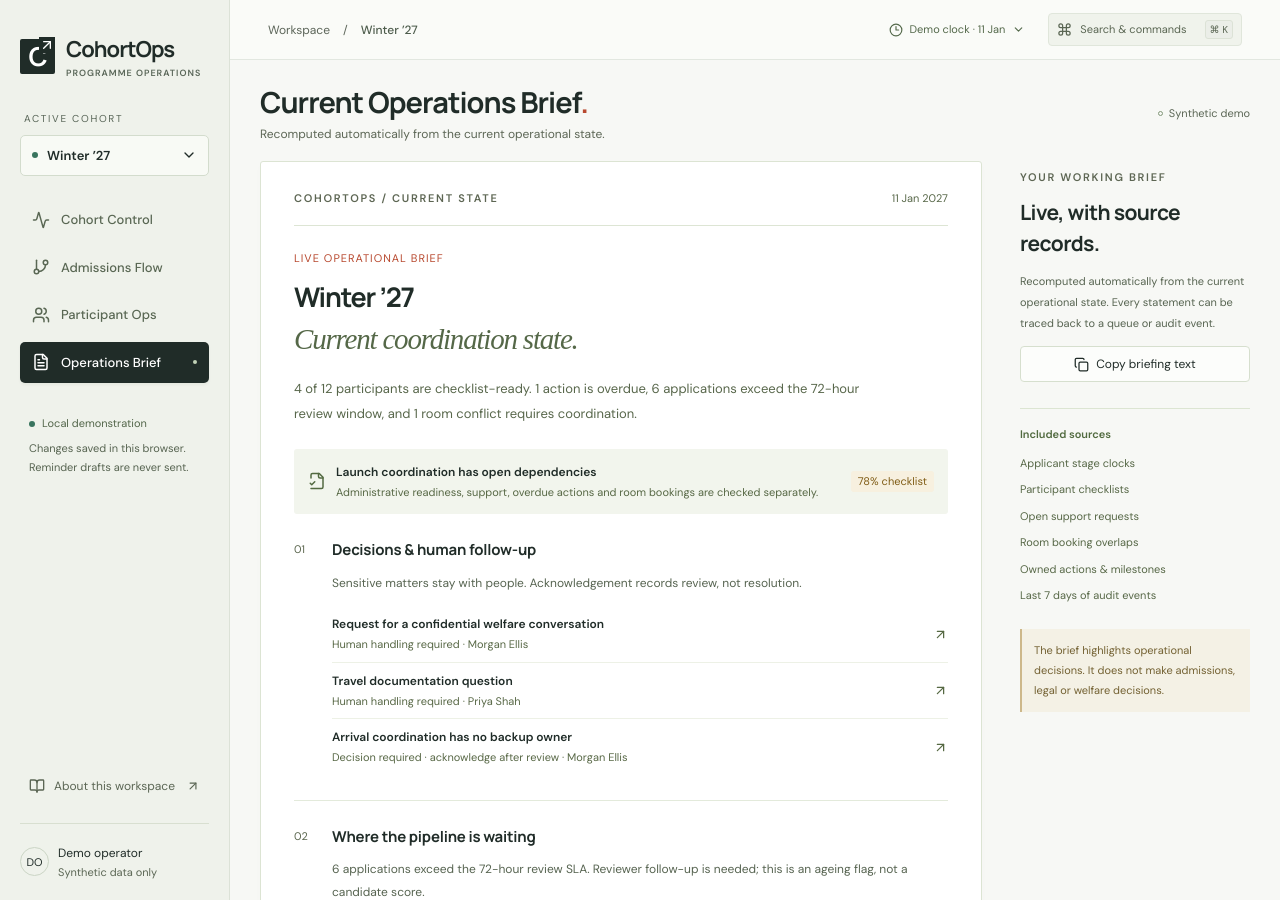
Scenario: CohortOps interaction refinements › removes generation controls and recomputes the explicitly live brief
This screenshot has width=1280, height=900.
Expected: the heading "Current Operations Brief." is shown, [260,84,605,120]
Expected: the button "Copy briefing text" is shown, [1020,346,1250,382]
Press k
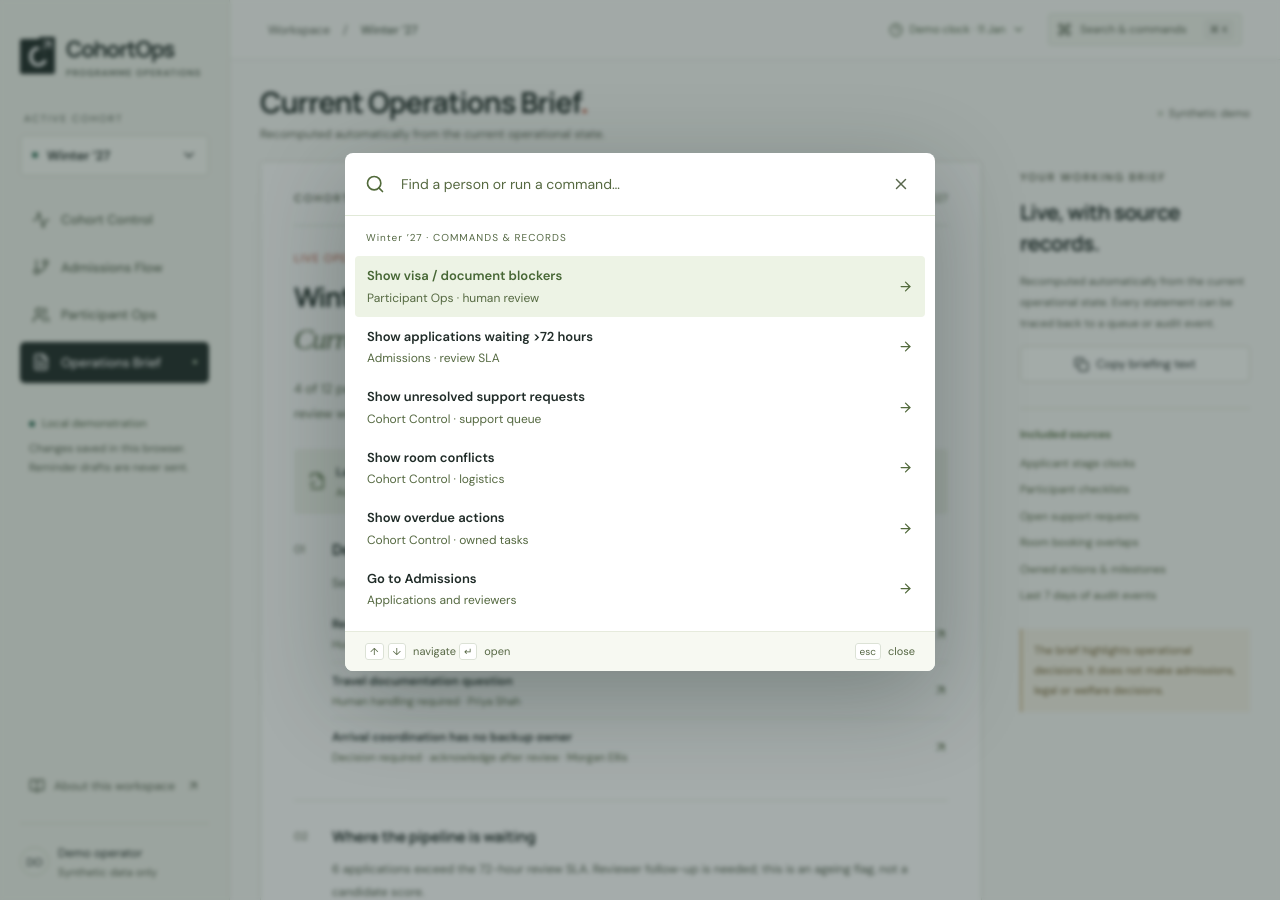
Type "current operations brief" into the dropdown at (636, 184), box [399,172,873,196]
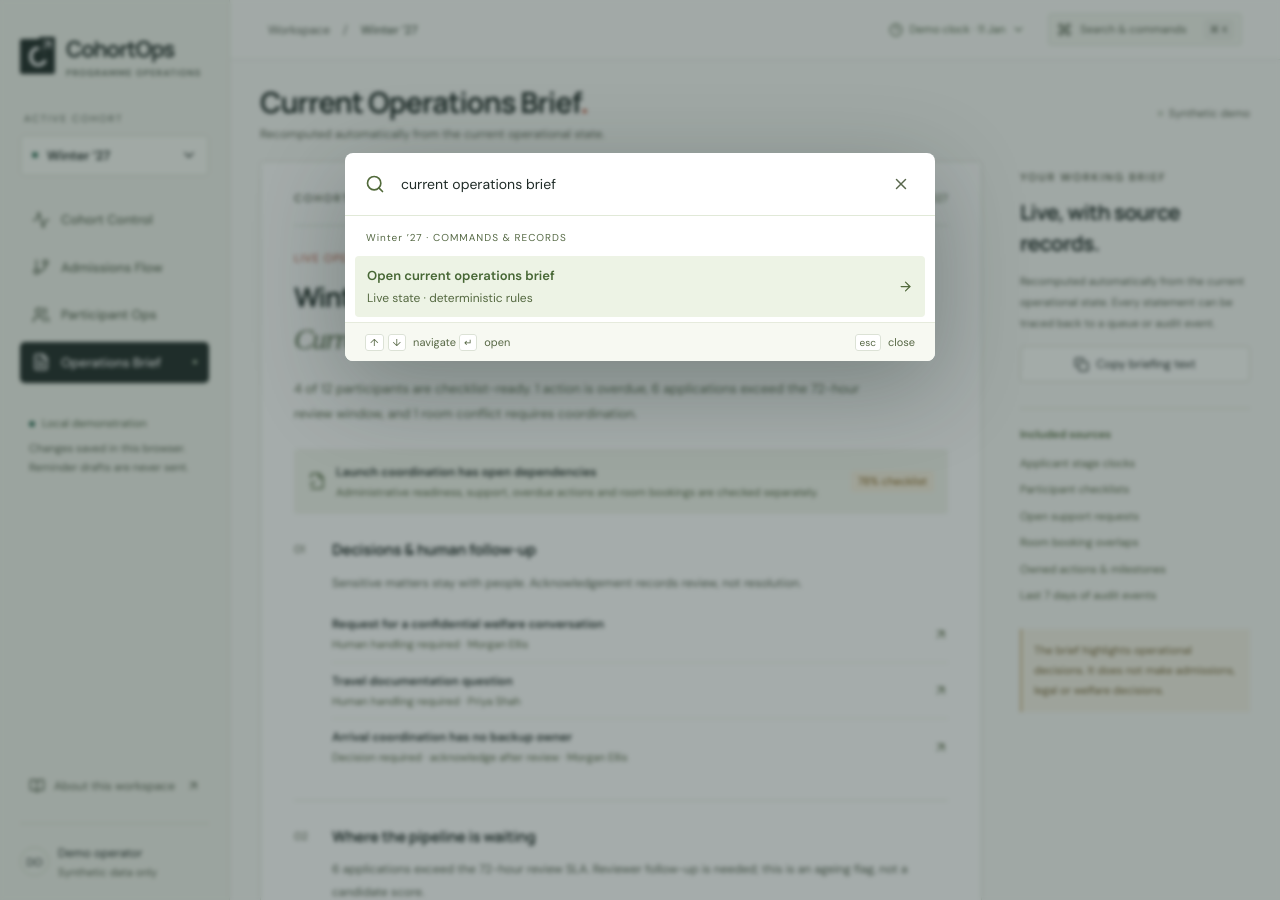
Expected: the option "Open current operations brief" is shown, [355,256,925,316]
